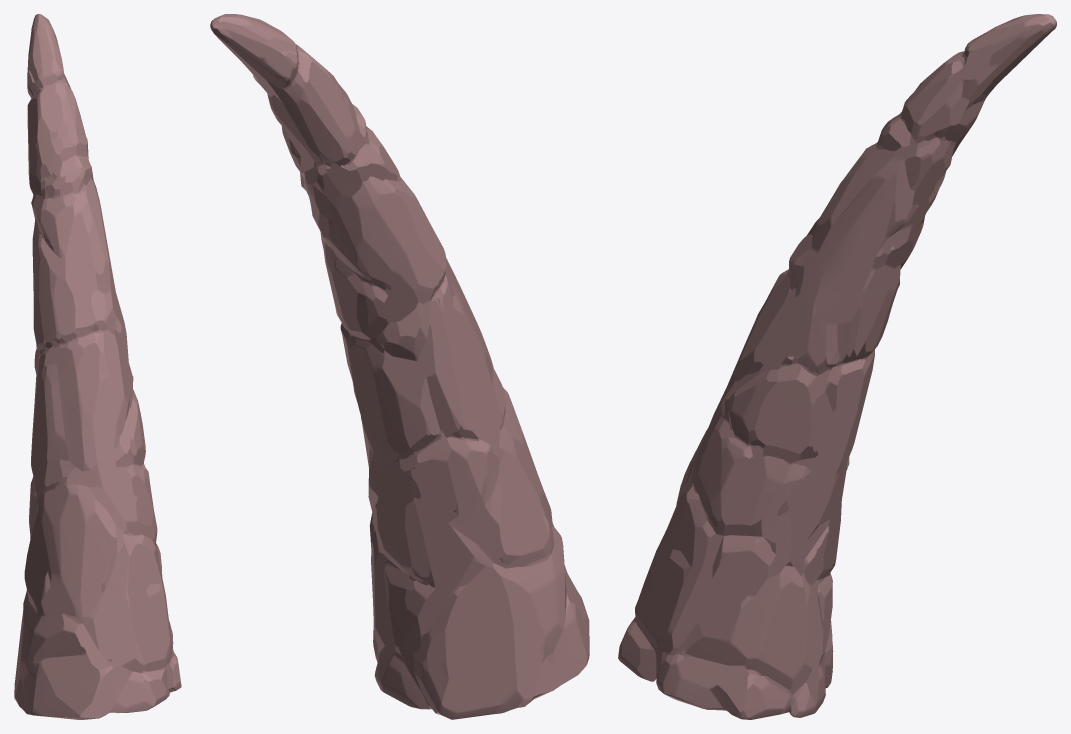
Rendered from sea.fbx_Cone__4_LODs.fbx.
3 renders of one model, left to right at view 1: azimuth 30°, elevation 25°; view 2: azimuth 150°, elevation 25°; view 3: azimuth 270°, elevation 25°, orthographic. The views are drawn at different scales.
Visible parts, largest first — view 1: Cone (4)_LOD0; view 2: Cone (4)_LOD0; view 3: Cone (4)_LOD0.
Boxes of the visible parts, x1=… form: Cone (4)_LOD0: x1=14, y1=14, x2=181, y2=719; Cone (4)_LOD0: x1=210, y1=14, x2=589, y2=719; Cone (4)_LOD0: x1=618, y1=14, x2=1056, y2=719.
Size of what is drawn, in the model's own units: 2764 by 10103 by 5559.
